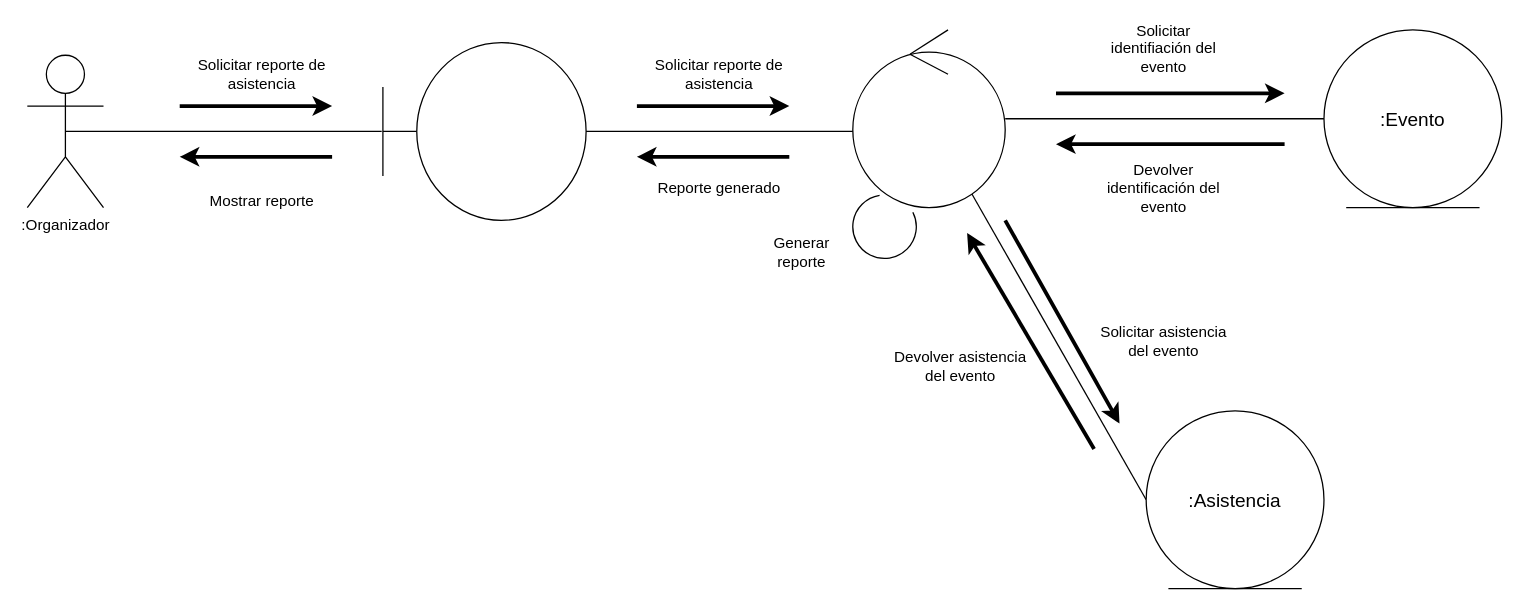
This 1524x611 diagram has some shape labels left out. Here are the shapes that lost their labels. From the top down, the box of each, then its label:
(382, 41, 586, 220): :PantallaEvento
(852, 29, 1005, 208): :Generador Reporte
